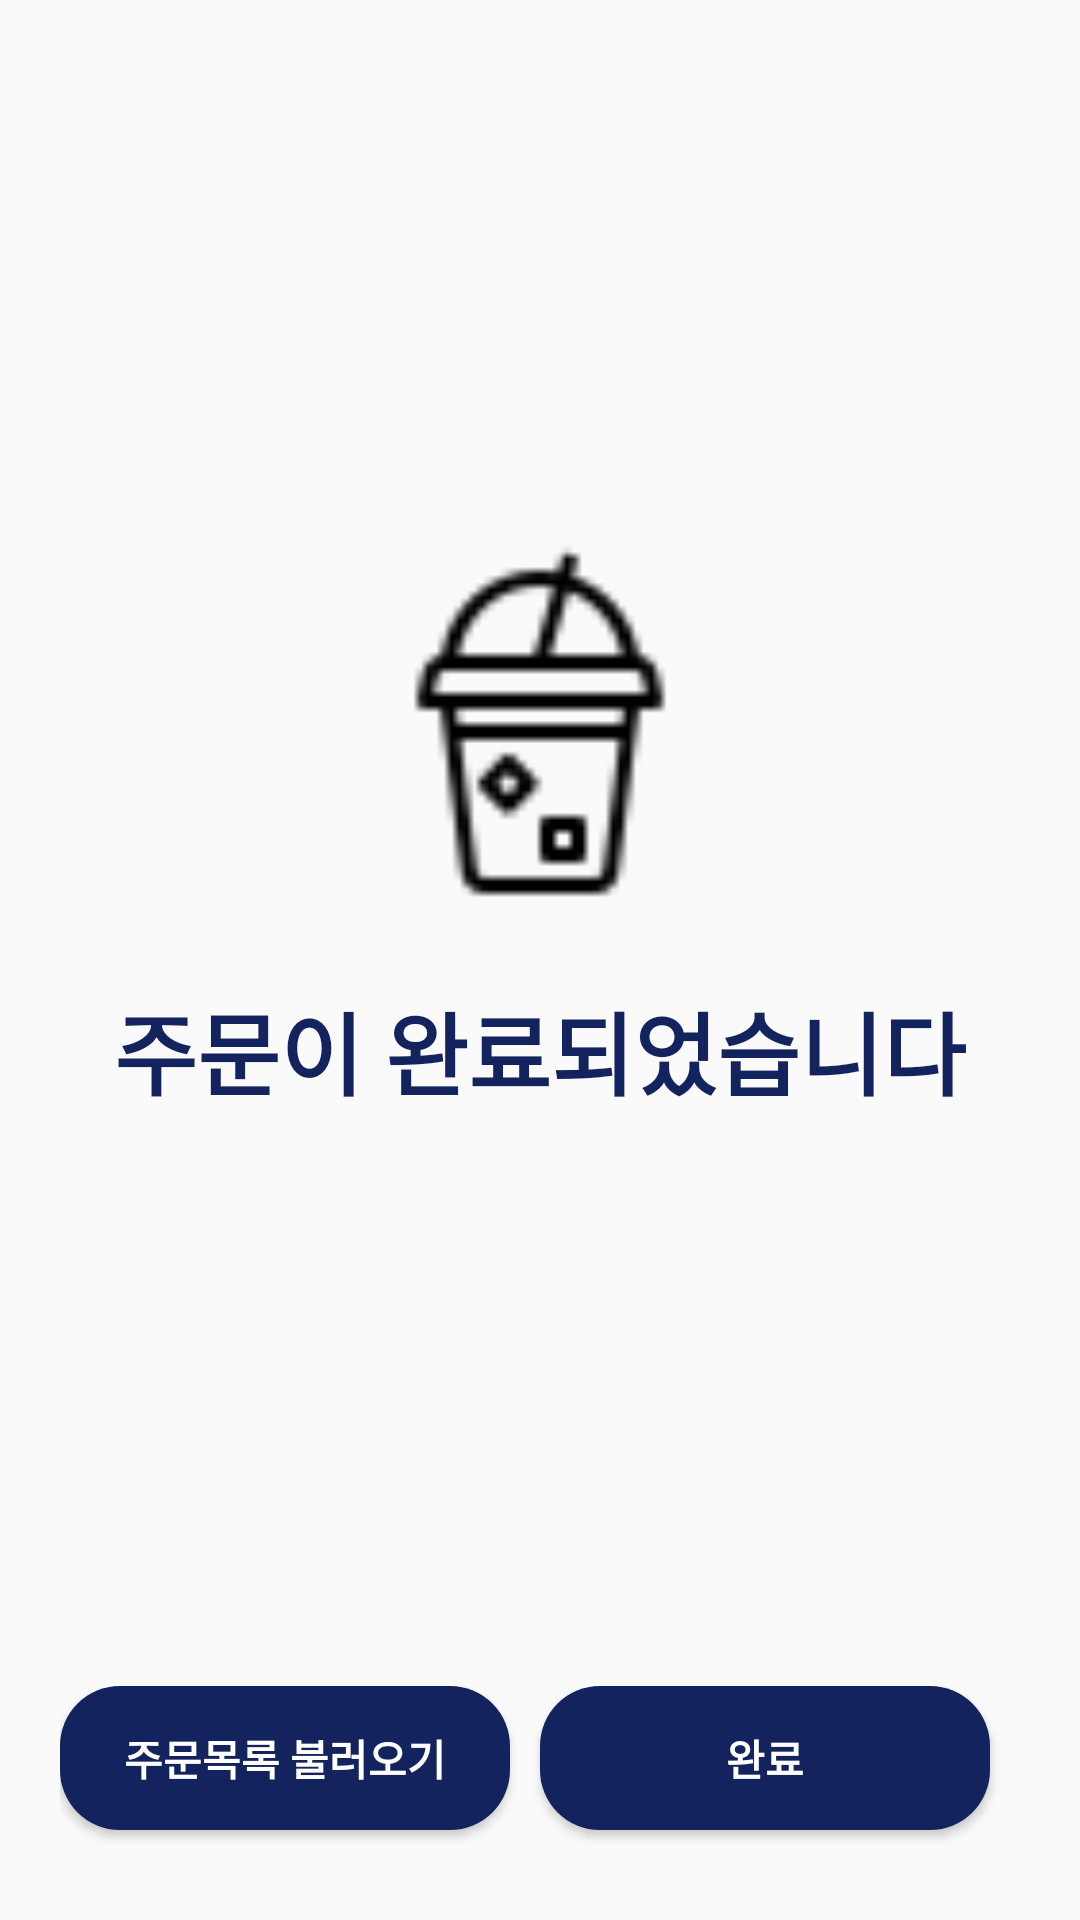

Locate icon controls on the screen. Image size 1080*1920, boxes as (x1, y1, x2, y2).
ordericon: (414, 549, 666, 896)
